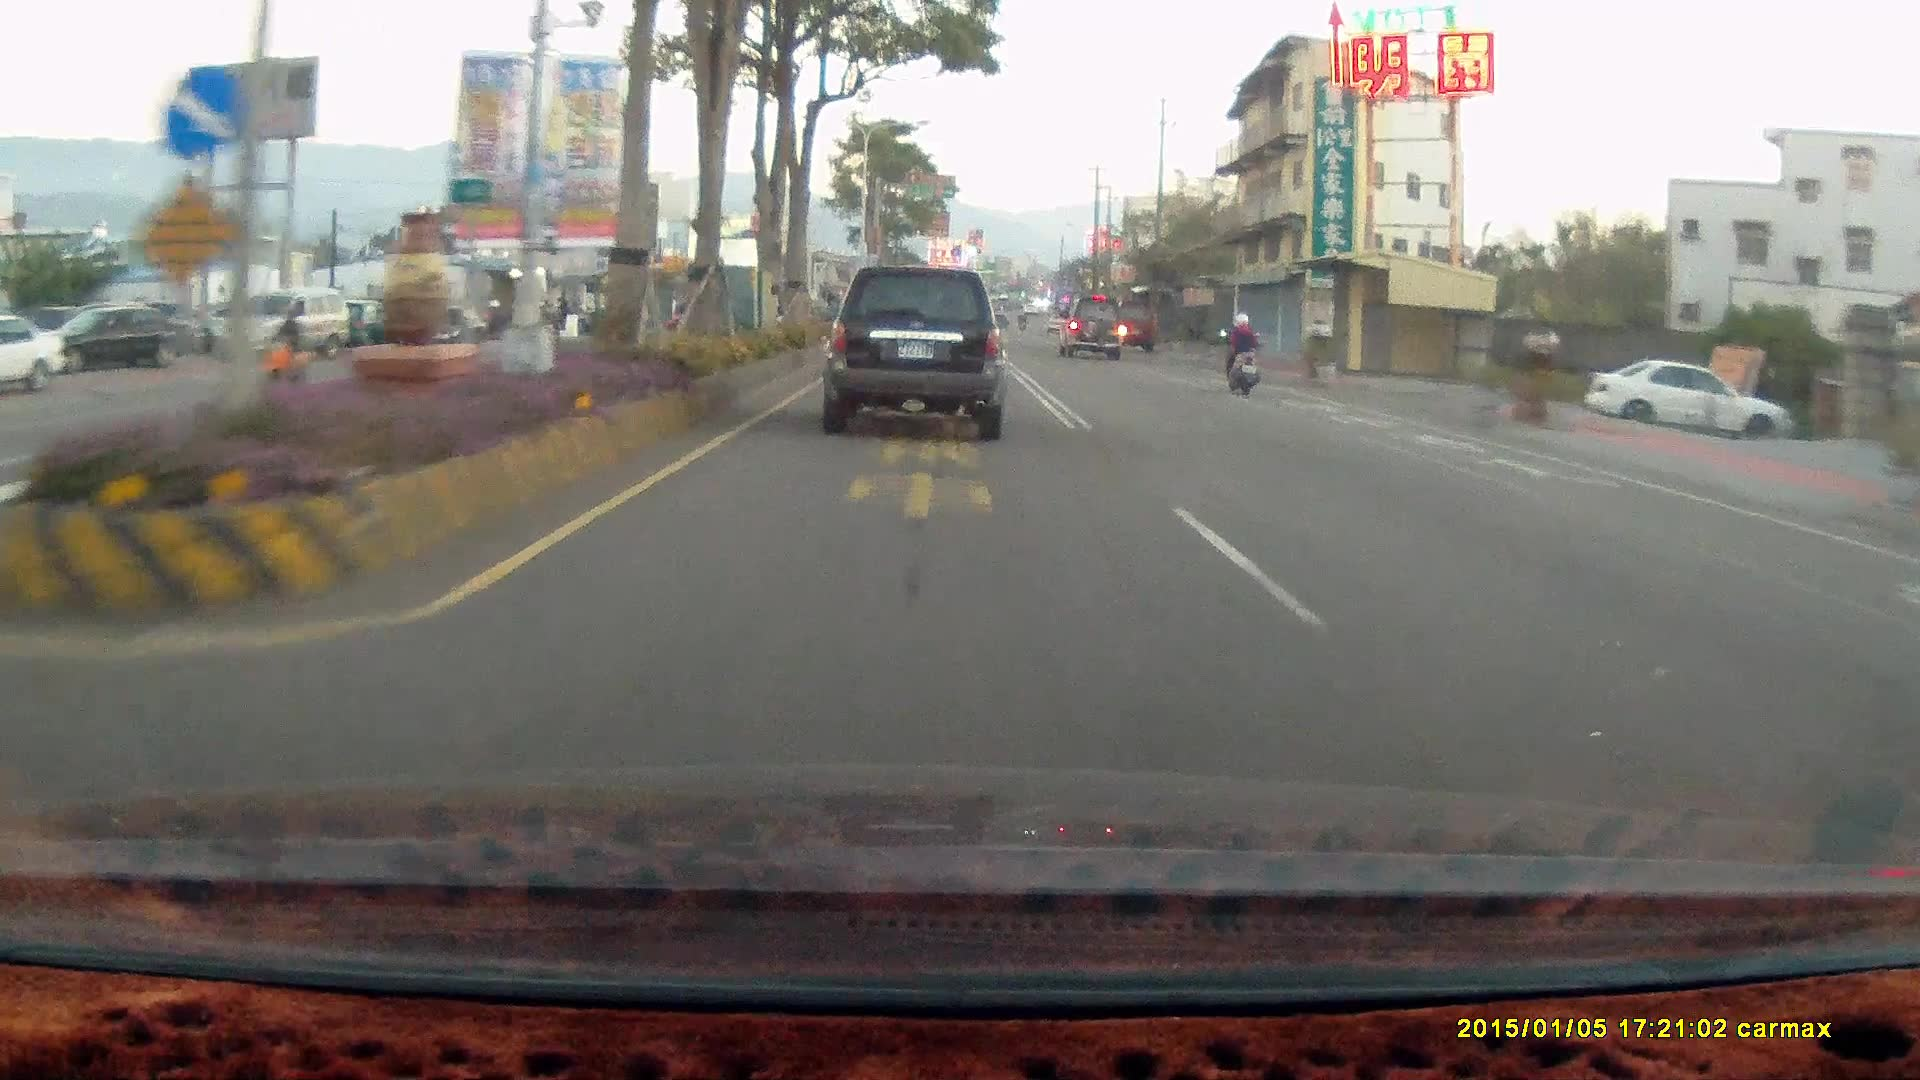rider: (1213, 305, 1271, 404), (259, 308, 309, 393), (1215, 309, 1258, 394)
vehicle: (818, 266, 1004, 440), (825, 269, 1010, 443), (1580, 358, 1790, 442), (1593, 360, 1794, 442), (24, 306, 197, 379), (27, 310, 205, 377), (211, 290, 354, 363), (387, 312, 495, 372), (0, 315, 69, 395), (393, 306, 488, 357), (1055, 295, 1124, 362), (1060, 298, 1126, 362), (1108, 299, 1156, 352)
